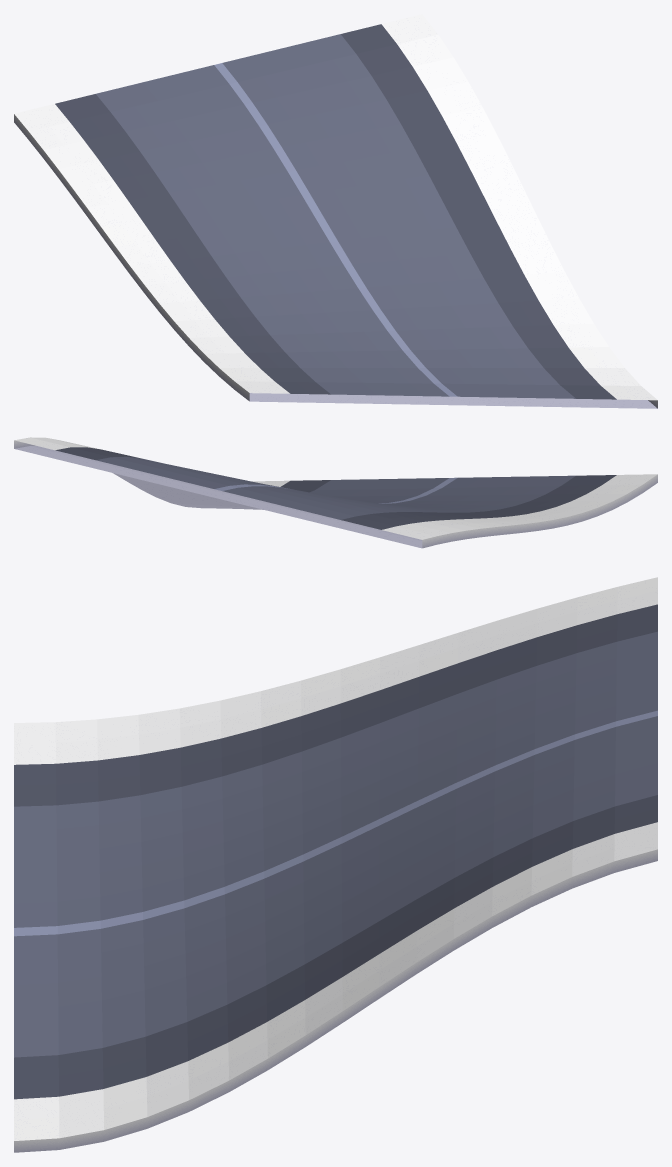
Rendered from road-Straight-HalfBankedRight-BiSlopeUp-Up2-Center-Size1.glb.
The picture shows the model from 3 angles, top to bottom: view 1: azimuth 30°, elevation 25°; view 2: azimuth 150°, elevation 25°; view 3: azimuth 270°, elevation 25°; orthographic projection. The views are drawn at different scales.
Visible parts, largest first — view 1: road-Straight-HalfBankedRight-BiSlopeUp-Up2-Center-Size1; view 2: road-Straight-HalfBankedRight-BiSlopeUp-Up2-Center-Size1; view 3: road-Straight-HalfBankedRight-BiSlopeUp-Up2-Center-Size1.
Boxes of the visible parts, x1,y1,x2,y2 form: road-Straight-HalfBankedRight-BiSlopeUp-Up2-Center-Size1: (14,14,657,408); road-Straight-HalfBankedRight-BiSlopeUp-Up2-Center-Size1: (14,437,657,548); road-Straight-HalfBankedRight-BiSlopeUp-Up2-Center-Size1: (14,577,657,1152).
Size of the model in its own units: 1 by 0.52 by 1.
1 material, 1 textured.
